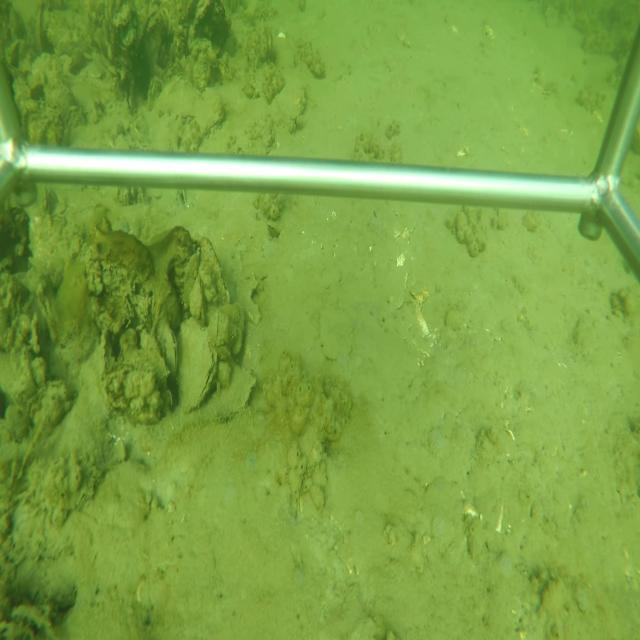Oyster-Closed: (179, 313, 218, 415), (199, 234, 231, 307), (95, 325, 116, 420)
